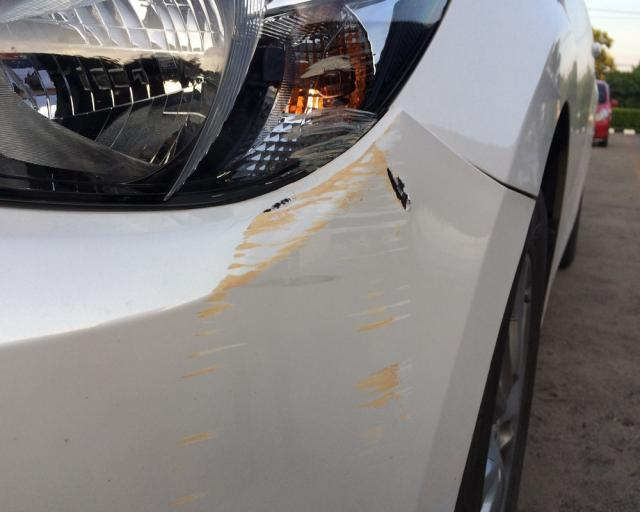scratch: (169, 123, 425, 512), (288, 55, 375, 169)
